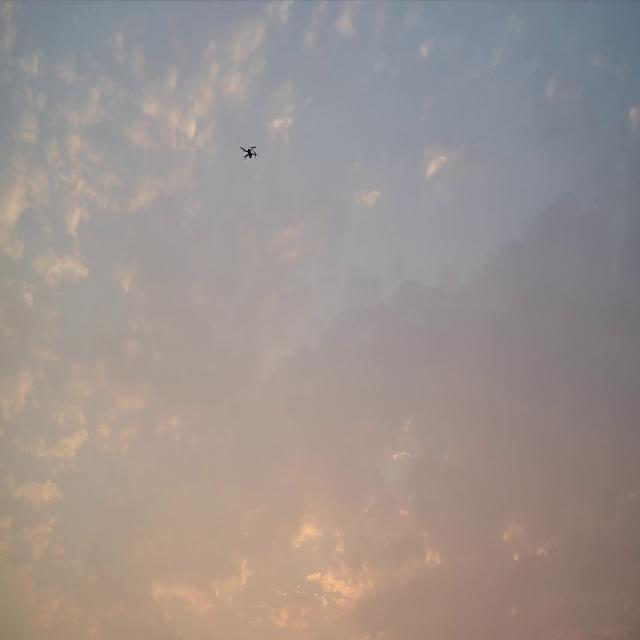UAV: (240, 146, 259, 160)
